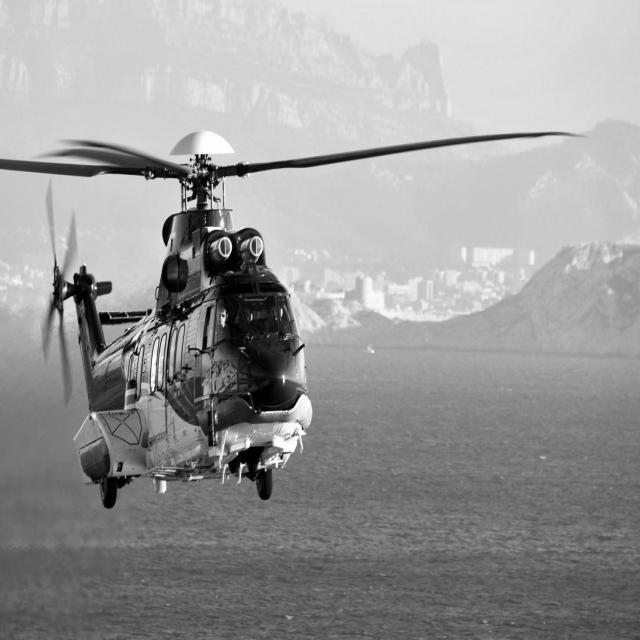helicopter: (1, 93, 525, 529)
